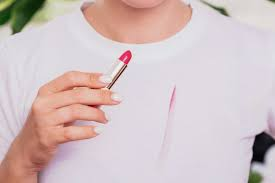kimchi: (159, 114, 177, 159), (168, 85, 179, 118)
